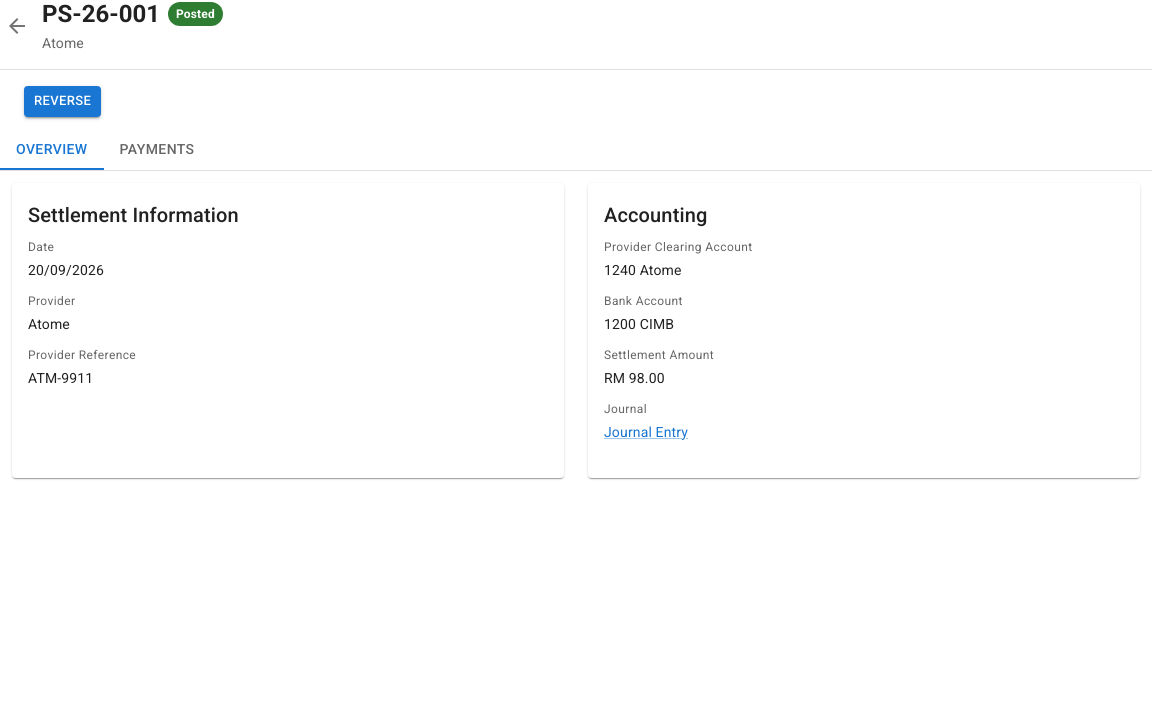
ProviderSettlementDetailView › document actions › disables confirming Reverse while its mutation is pending
Click the button "Reverse" at (63, 101), box [24,86,101,117]
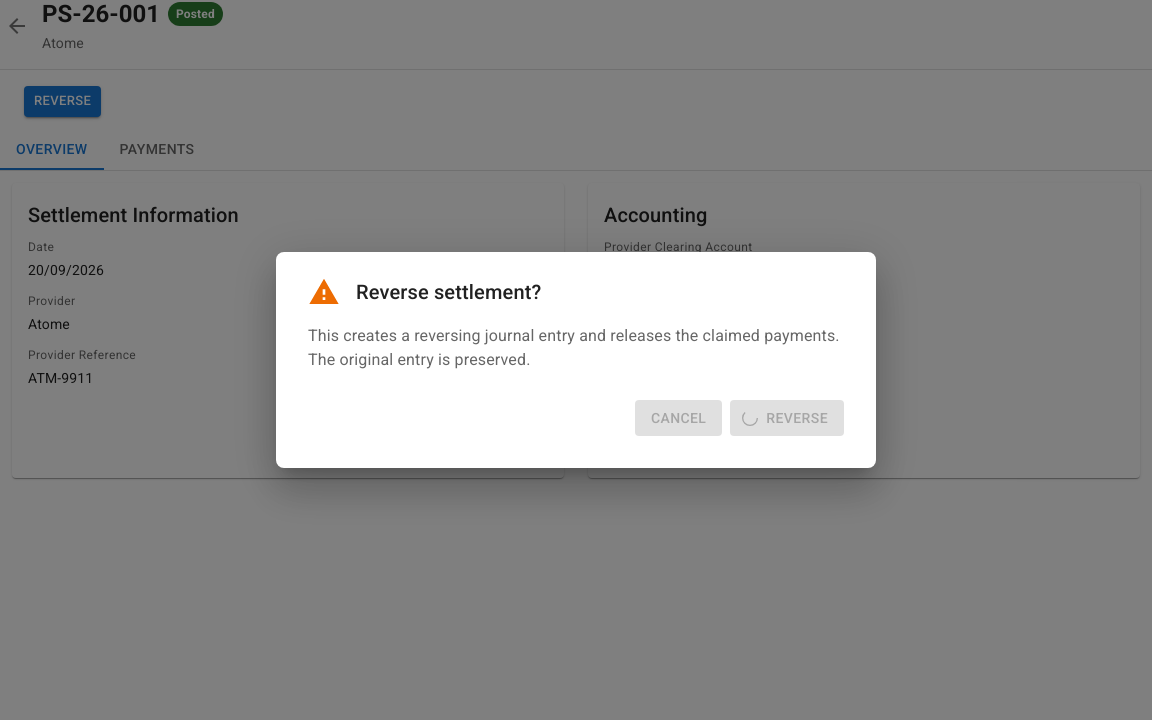
Result: the button "Reverse" is disabled at [730,400,844,436]
